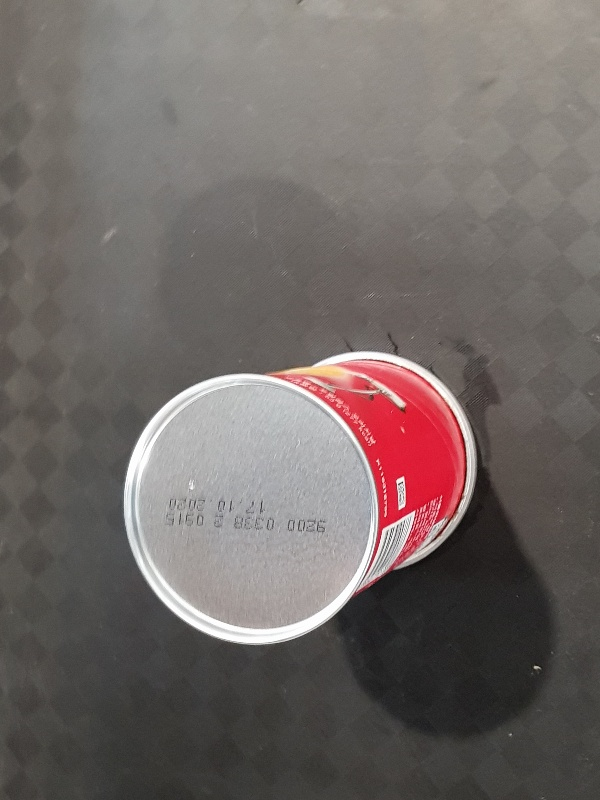Pringles Original: (120, 349, 475, 647)
